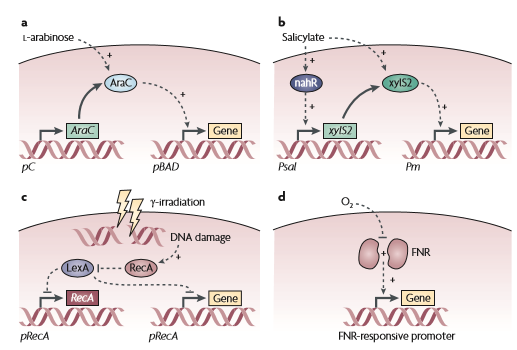CDS: (64, 288, 101, 307), (400, 288, 437, 307), (206, 121, 243, 139), (207, 289, 244, 307), (64, 122, 100, 139), (321, 123, 357, 140)
Promoter: (293, 125, 322, 142), (372, 293, 399, 308), (179, 294, 207, 308), (37, 293, 64, 307), (37, 128, 64, 141), (430, 128, 459, 140), (181, 128, 205, 139)
inhibit: (120, 281, 196, 293), (41, 265, 59, 293), (95, 262, 123, 273)
lead: (167, 97, 195, 127), (430, 96, 450, 127), (158, 246, 184, 267), (378, 269, 390, 296)
